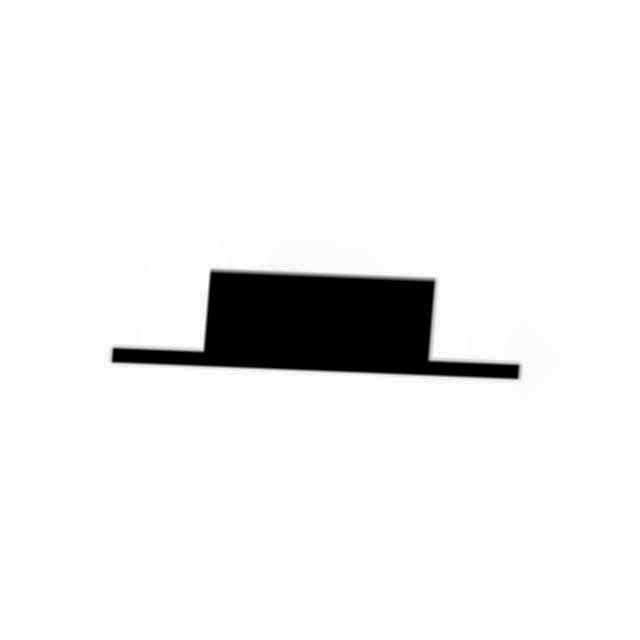Half-rest: (91, 261, 537, 391)
